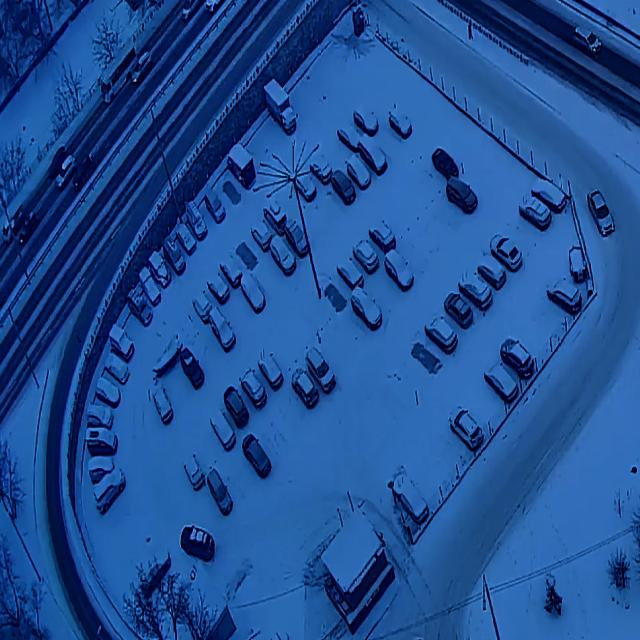car: (101, 36, 138, 111), (390, 470, 430, 527), (447, 403, 485, 454), (263, 79, 297, 135), (94, 464, 126, 520), (500, 333, 535, 384), (530, 170, 567, 218), (483, 358, 519, 405), (586, 186, 617, 239), (545, 274, 583, 317), (305, 345, 337, 396), (458, 268, 493, 312), (180, 524, 216, 566), (351, 284, 383, 331), (241, 432, 271, 482), (226, 143, 256, 191), (489, 231, 523, 273), (422, 316, 458, 355), (358, 134, 389, 179), (290, 366, 320, 411), (384, 247, 414, 292), (445, 175, 478, 215), (208, 405, 236, 452), (206, 468, 233, 516), (367, 214, 397, 256), (210, 306, 236, 354), (443, 292, 474, 332), (351, 235, 381, 276), (518, 195, 552, 231), (222, 385, 249, 430), (270, 235, 297, 279), (336, 253, 364, 295), (346, 148, 372, 193), (240, 270, 266, 315), (240, 367, 267, 410), (84, 426, 119, 459), (476, 254, 506, 292), (330, 167, 357, 209), (258, 349, 283, 394), (126, 287, 154, 327), (284, 218, 310, 260), (262, 198, 289, 238), (574, 21, 602, 59), (354, 98, 379, 140), (292, 163, 317, 205), (431, 146, 460, 182), (109, 324, 135, 364), (181, 448, 205, 491), (181, 347, 204, 391), (338, 114, 362, 156), (163, 236, 187, 278), (103, 351, 131, 387), (138, 267, 162, 308), (148, 250, 172, 290), (388, 106, 414, 142), (219, 250, 243, 289), (186, 200, 208, 242), (174, 218, 198, 256), (206, 268, 230, 306), (95, 375, 121, 410), (203, 186, 226, 225), (192, 286, 215, 325), (132, 47, 153, 89), (56, 150, 75, 195), (73, 153, 93, 195), (153, 386, 174, 426), (16, 209, 38, 247), (250, 216, 273, 252), (308, 151, 332, 185), (87, 458, 115, 486), (86, 404, 114, 430), (50, 140, 66, 182)
